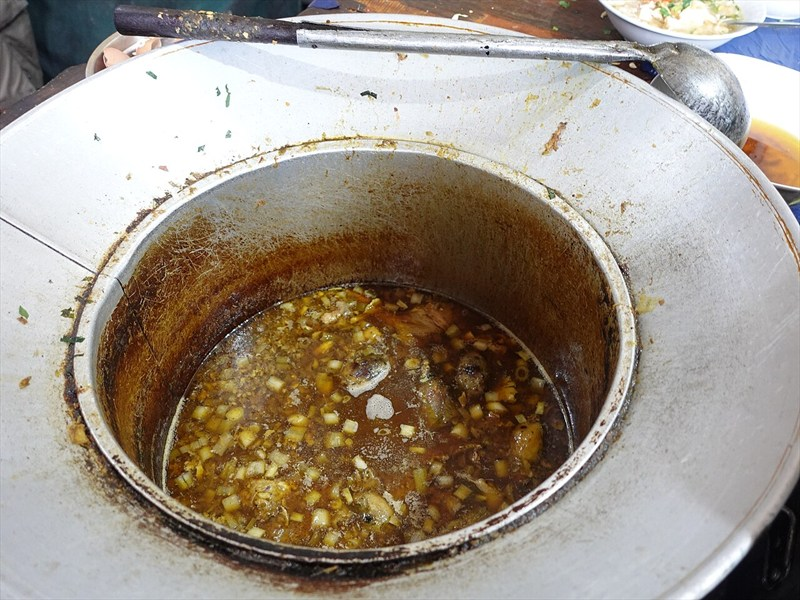Soto Ayam: (82, 169, 633, 561)
